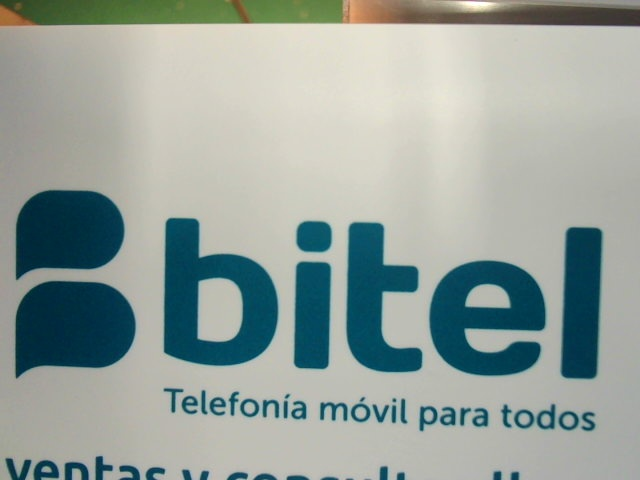BE_bitel: (8, 185, 608, 387)
